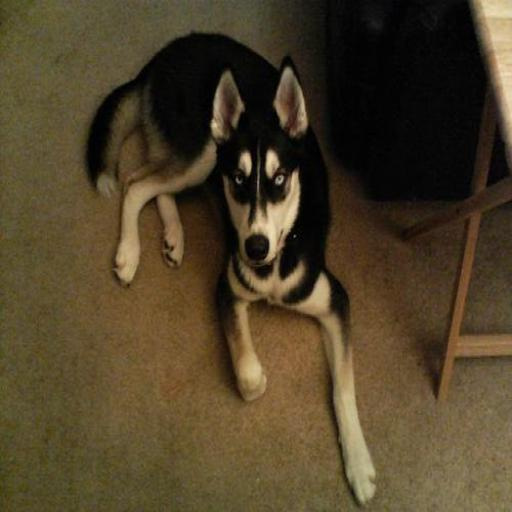dog_face: (214, 68, 306, 264)
